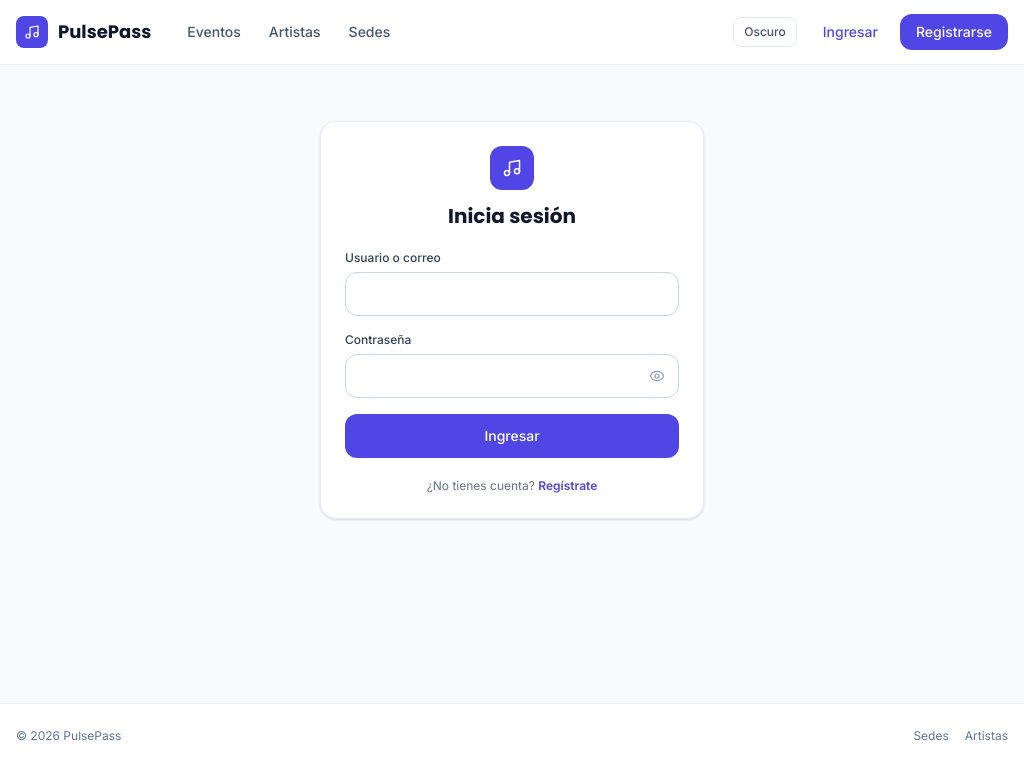
Test case: 21.2 Autenticación y guardas (TEST-FE-AUTH-*) › TEST-FE-AUTH-001: login válido establece sesión autenticada y redirige
In the field labelled "Usuario o correo": (512, 294) [345,272,679,316], type "andrea"
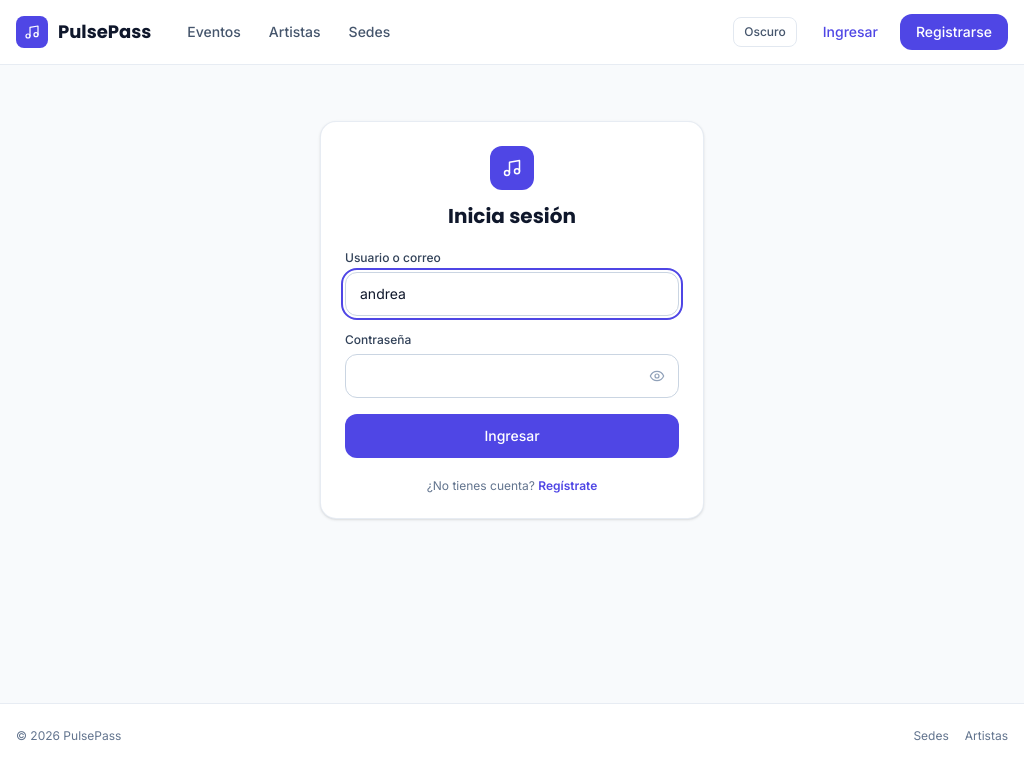
In the password field labelled "Contraseña": (512, 376) [345,354,679,398], type "UnaFraseSeguraLarga2026!"
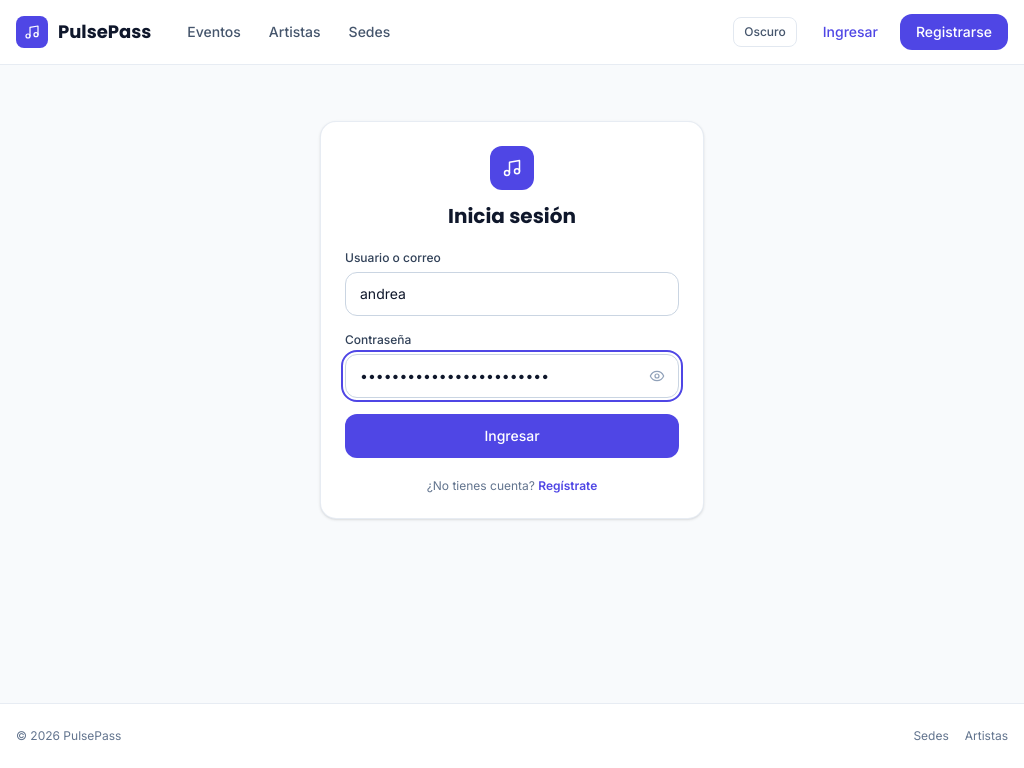
Click the button "Ingresar": click(512, 436) [345,414,679,458]
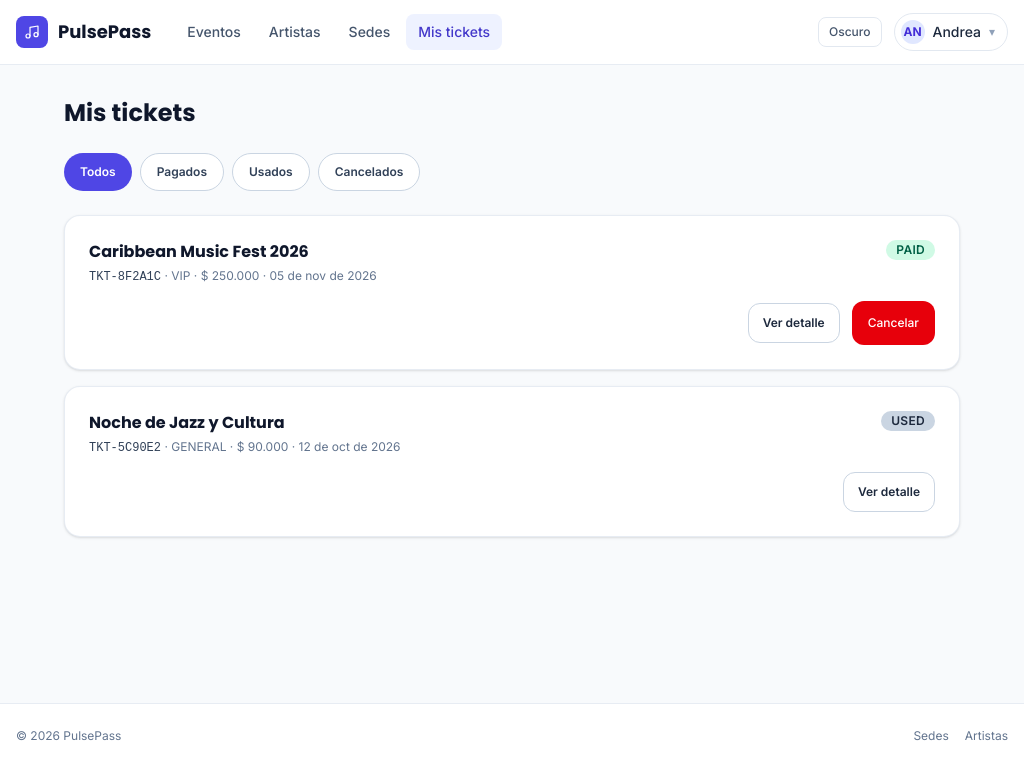
Check: the heading "Mis tickets" is shown, box [64,96,196,129]
